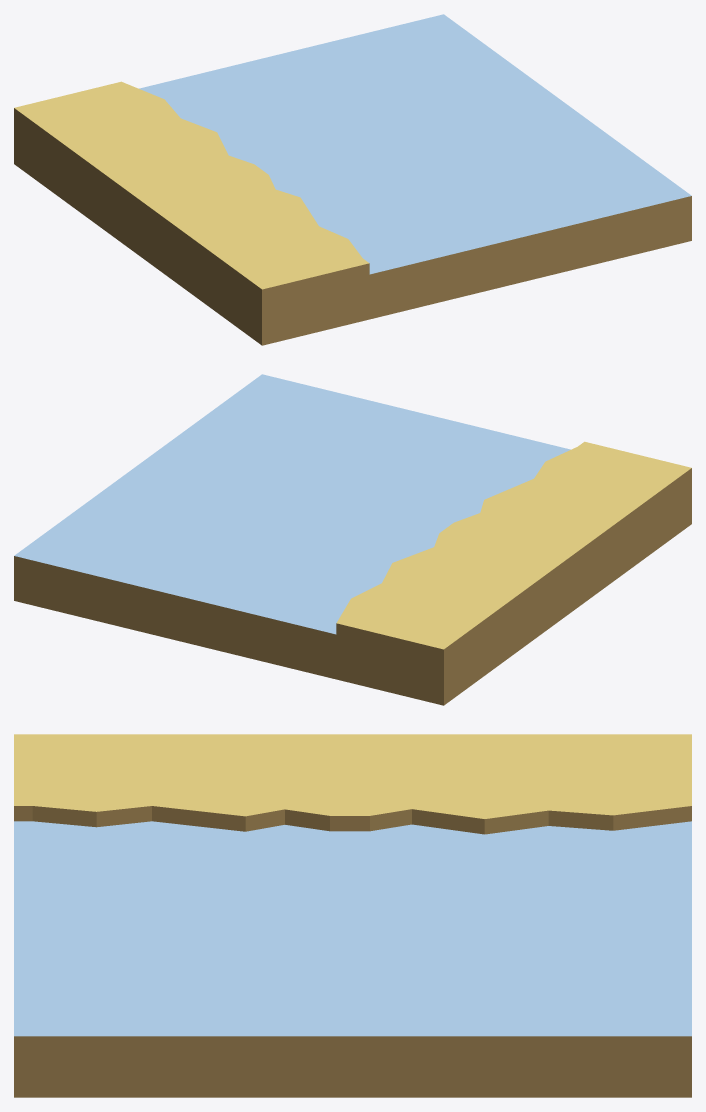
The model's file is Terrain_Tile_Sand_Water_Bank_03.fbx.
3 views of the same model, one above another, from view 1: azimuth 30°, elevation 25°; view 2: azimuth 150°, elevation 25°; view 3: azimuth 270°, elevation 25° (orthographic). The views are drawn at different scales.
Visible parts, largest first — view 1: Terrain_Tile_Sand_Water_Bank_03; view 2: Terrain_Tile_Sand_Water_Bank_03; view 3: Terrain_Tile_Sand_Water_Bank_03.
Boxes of the visible parts, box(x1,y1,x2,y2) form: Terrain_Tile_Sand_Water_Bank_03: box(14, 14, 691, 345); Terrain_Tile_Sand_Water_Bank_03: box(14, 374, 691, 705); Terrain_Tile_Sand_Water_Bank_03: box(14, 734, 691, 1097).
Bounding box in the file's own units: 126 × 15.75 × 126.
